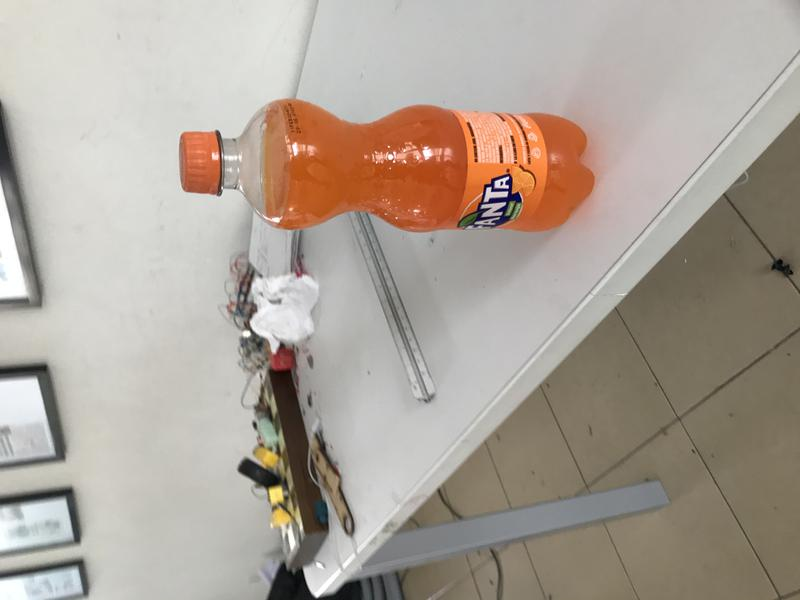fanta: (178, 98, 595, 232)
